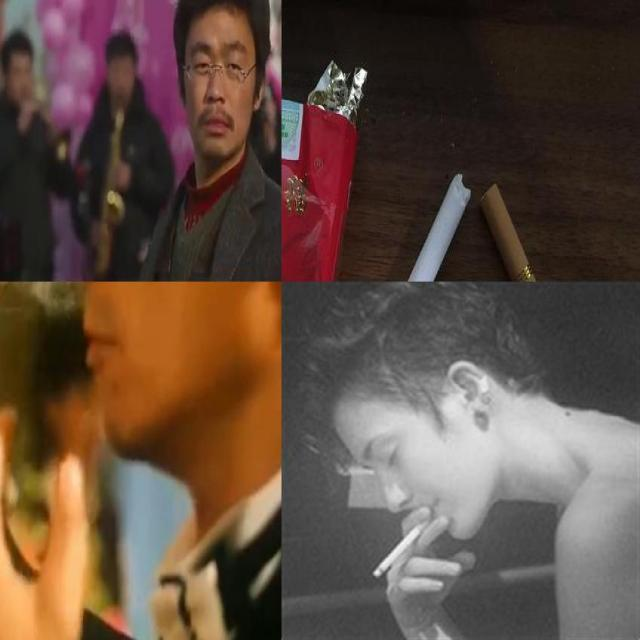cigarette: (326, 172, 472, 280), (480, 182, 620, 280), (369, 511, 442, 582)
